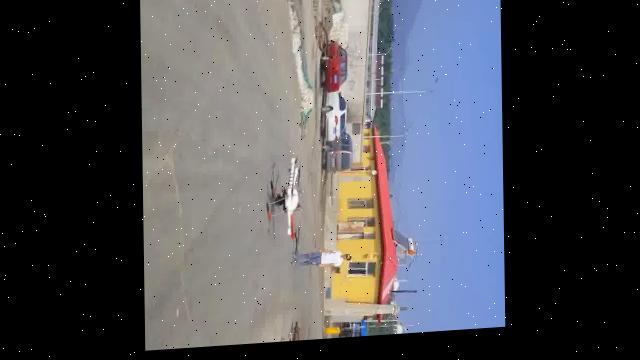drone: (266, 157, 307, 253)
